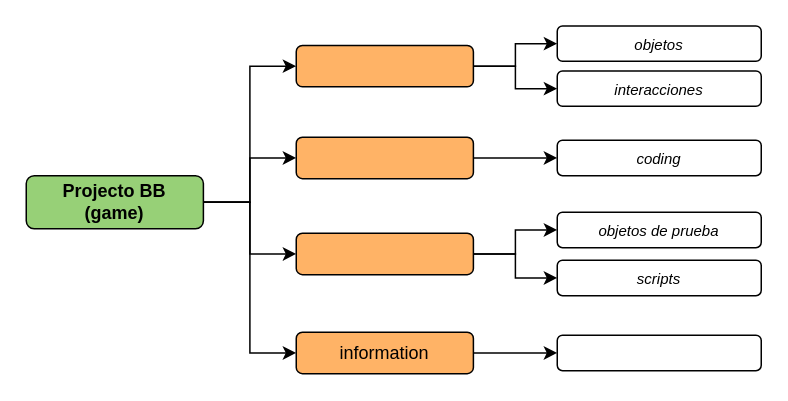
Image size: 788x401. Some labels were removed from this diagram. Here are the shapes that lost their labels. From the top down, the centre of each, then its label:
pixel 384 65: scene
pixel 384 157: player
pixel 384 253: sandbox
pixel 658 352: sobre nuestra organización
